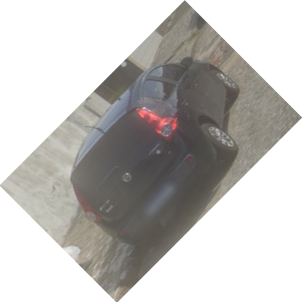car: (70, 58, 240, 251)
